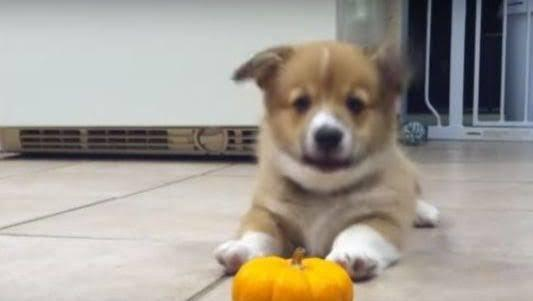puppy-dog: (214, 39, 440, 283)
